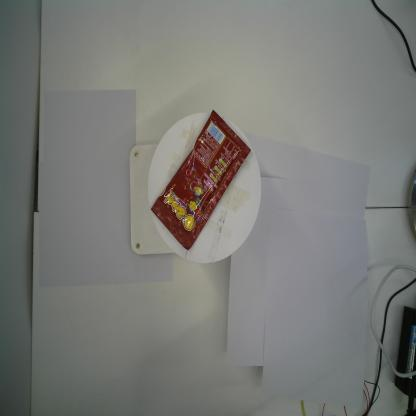Candy: (150, 109, 251, 250)
